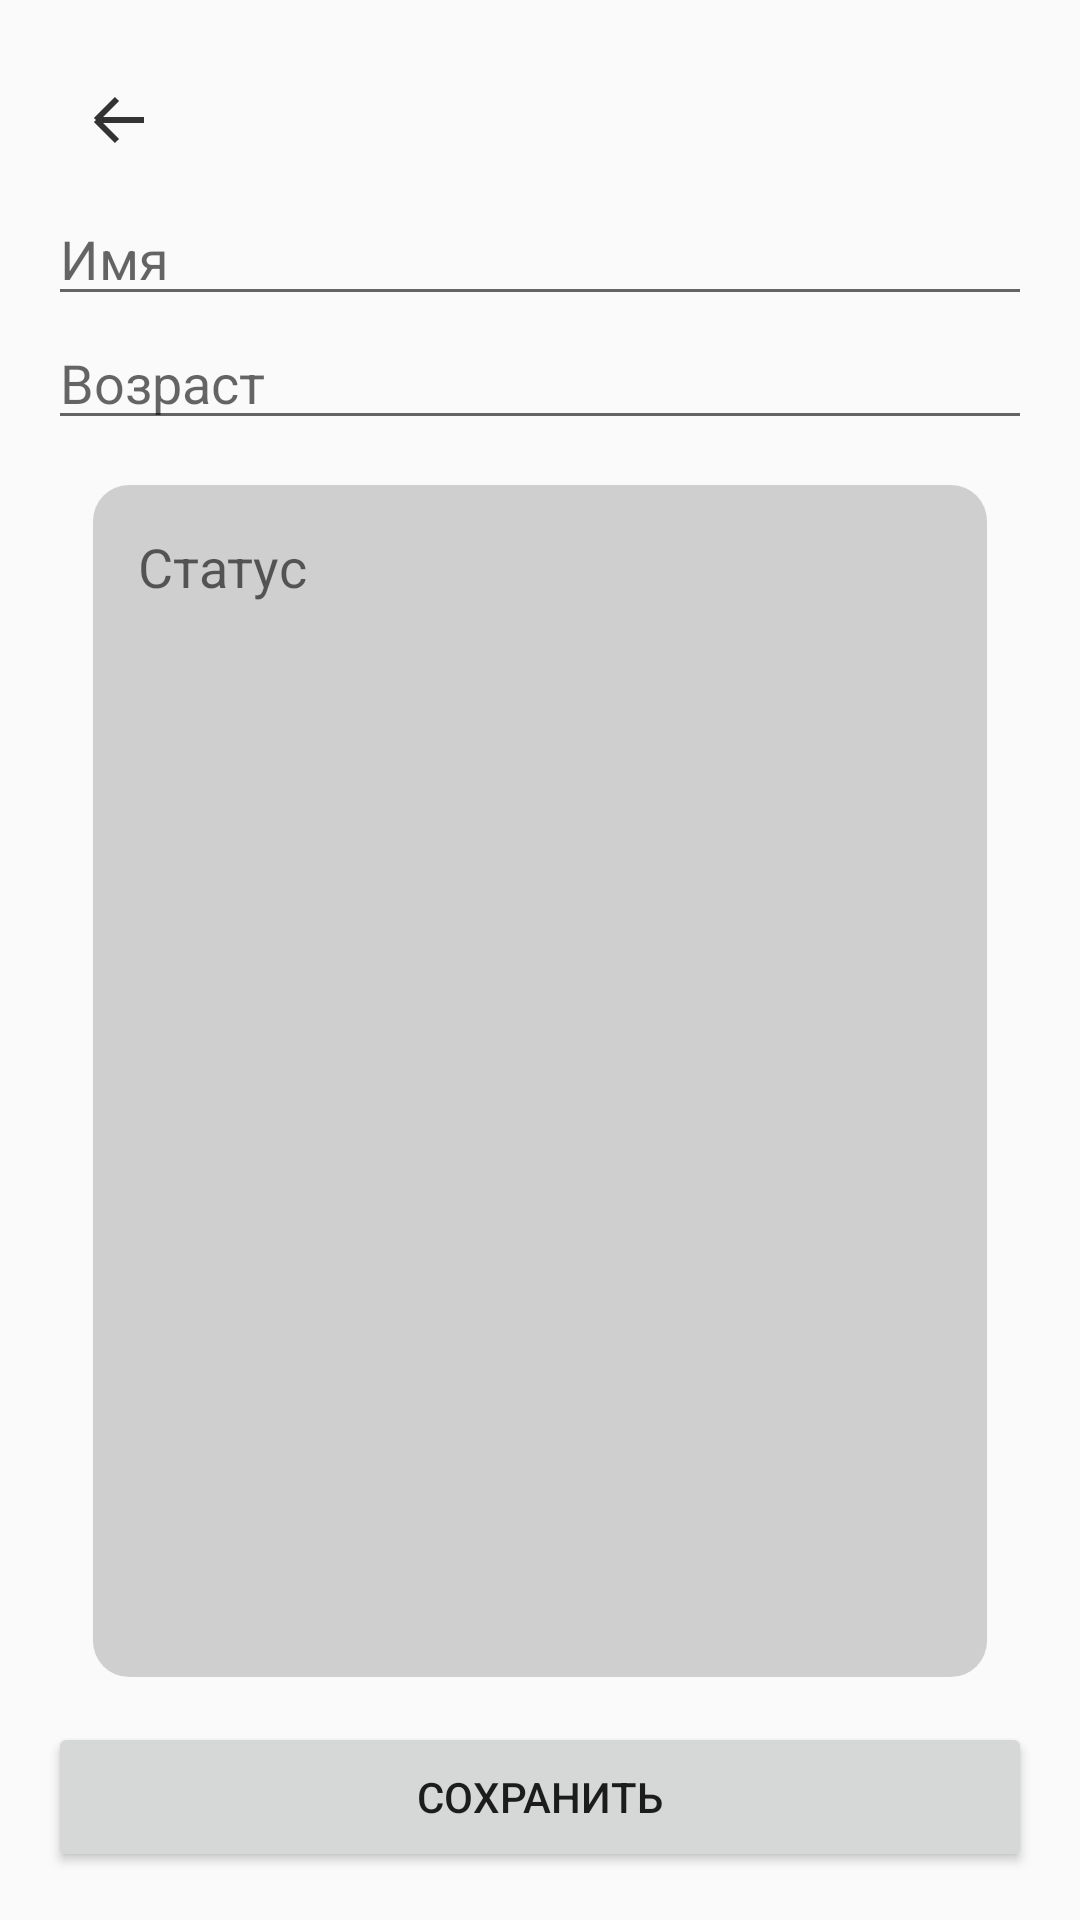

Named icons in this screenshot (1080×1920) and their bounding boxes, (x1, y1, x2, y2):
Назад: (94, 97, 144, 143)
